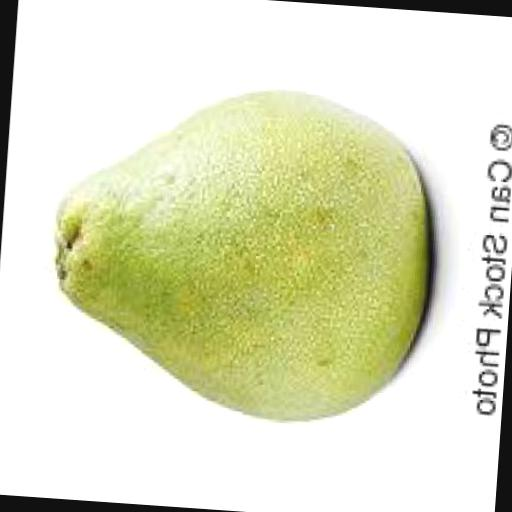biodegradable: (40, 69, 446, 430)
